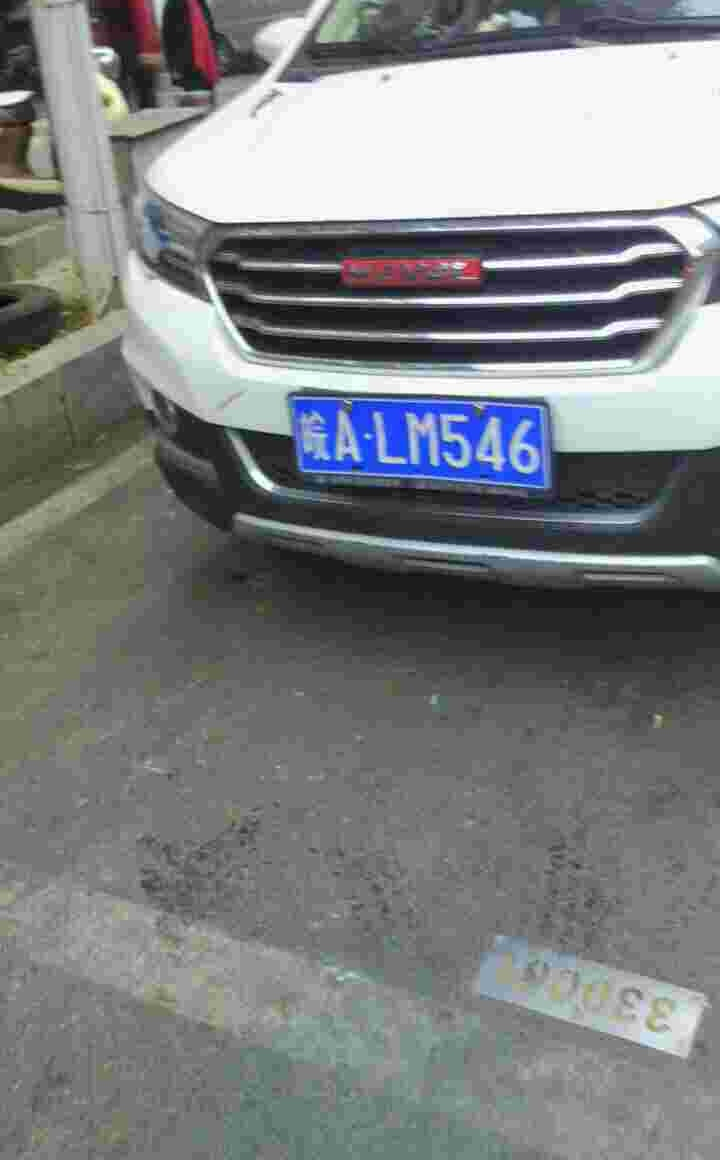license_plate: (298, 399, 545, 484)
